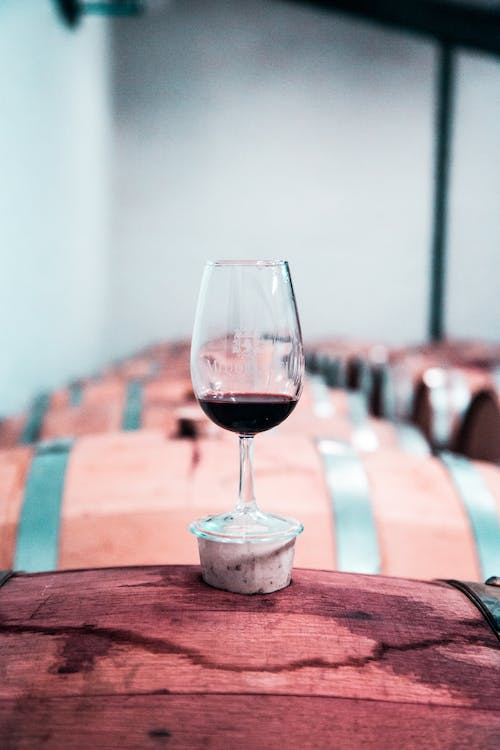alcohol: (187, 257, 306, 543)
